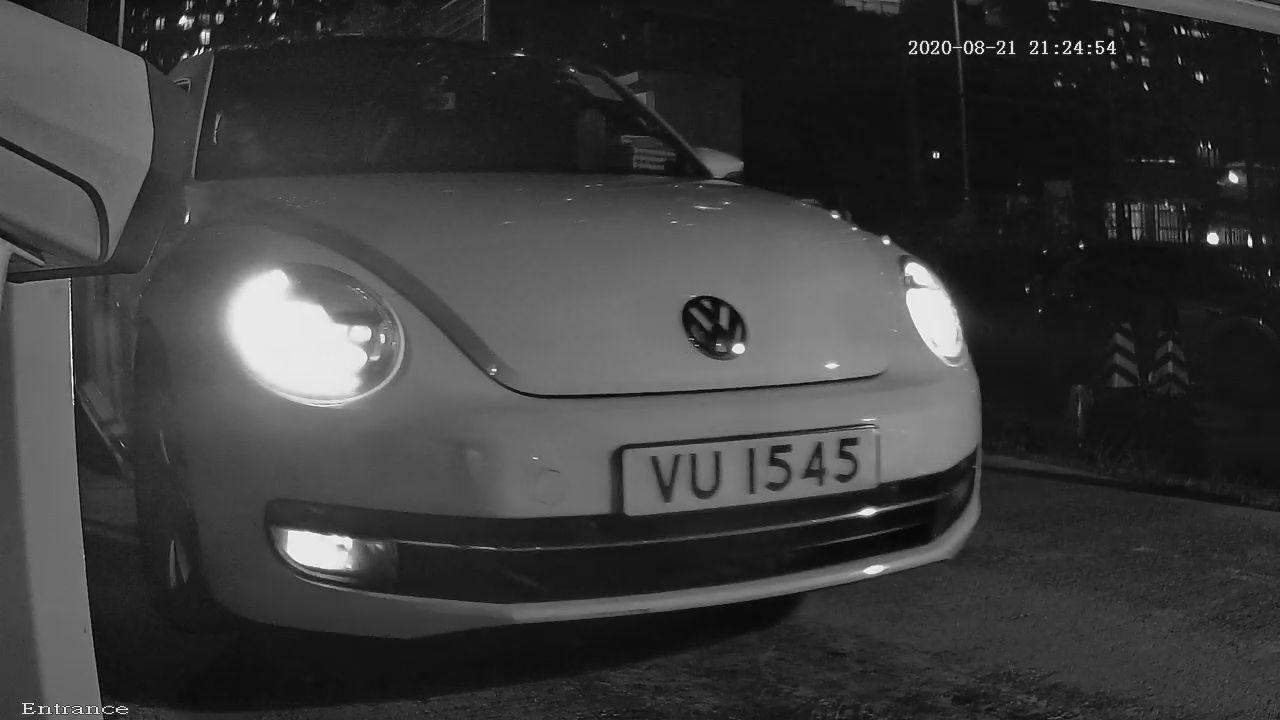Car: (1, 13, 1121, 695)
License Plate: (601, 415, 898, 524)
